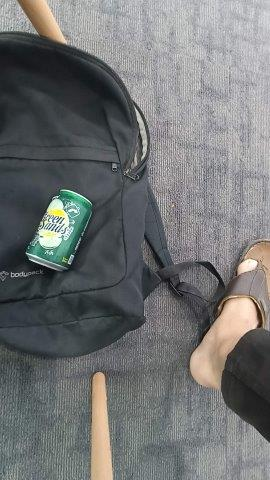kaleng: (25, 189, 92, 272)
